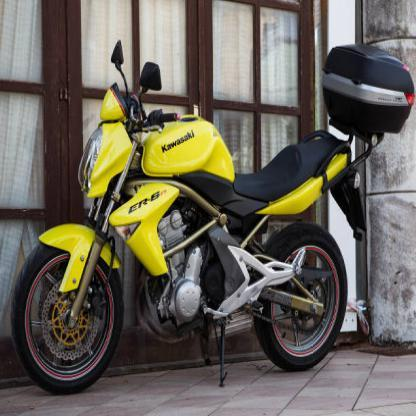Motorcycle: (9, 26, 416, 396)
